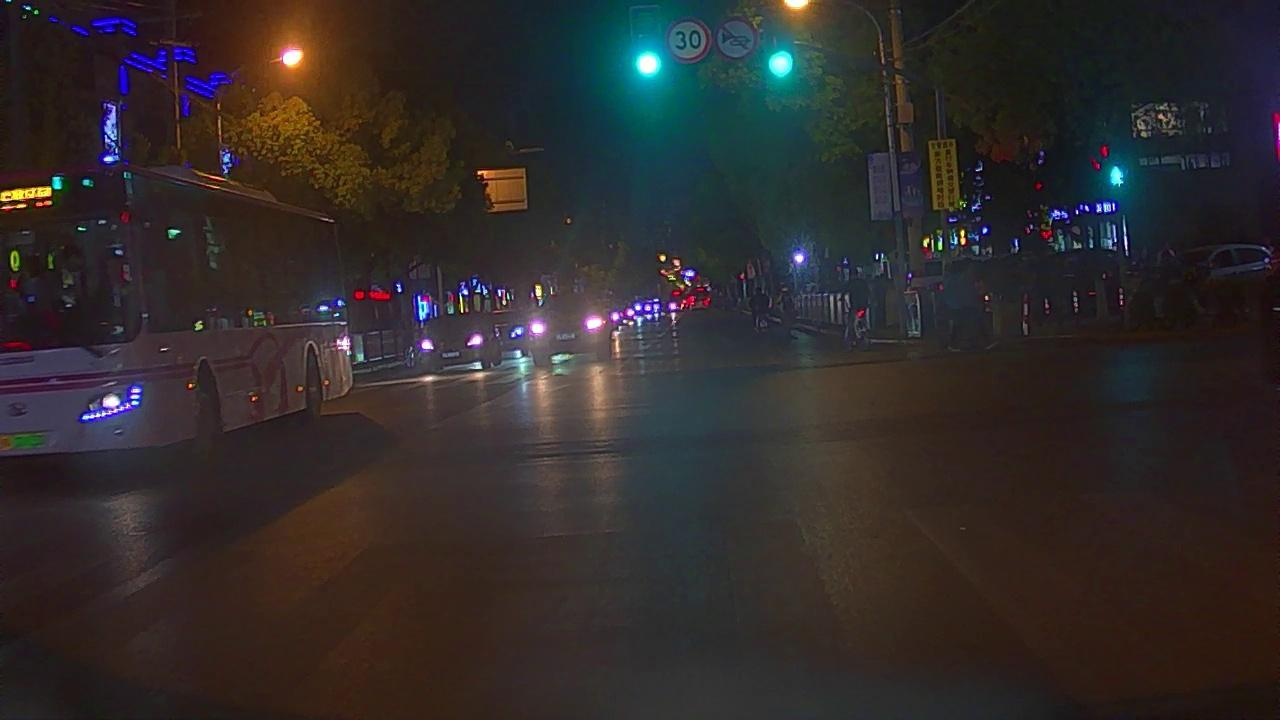traffic_light: (629, 42, 666, 84), (762, 45, 799, 84)
